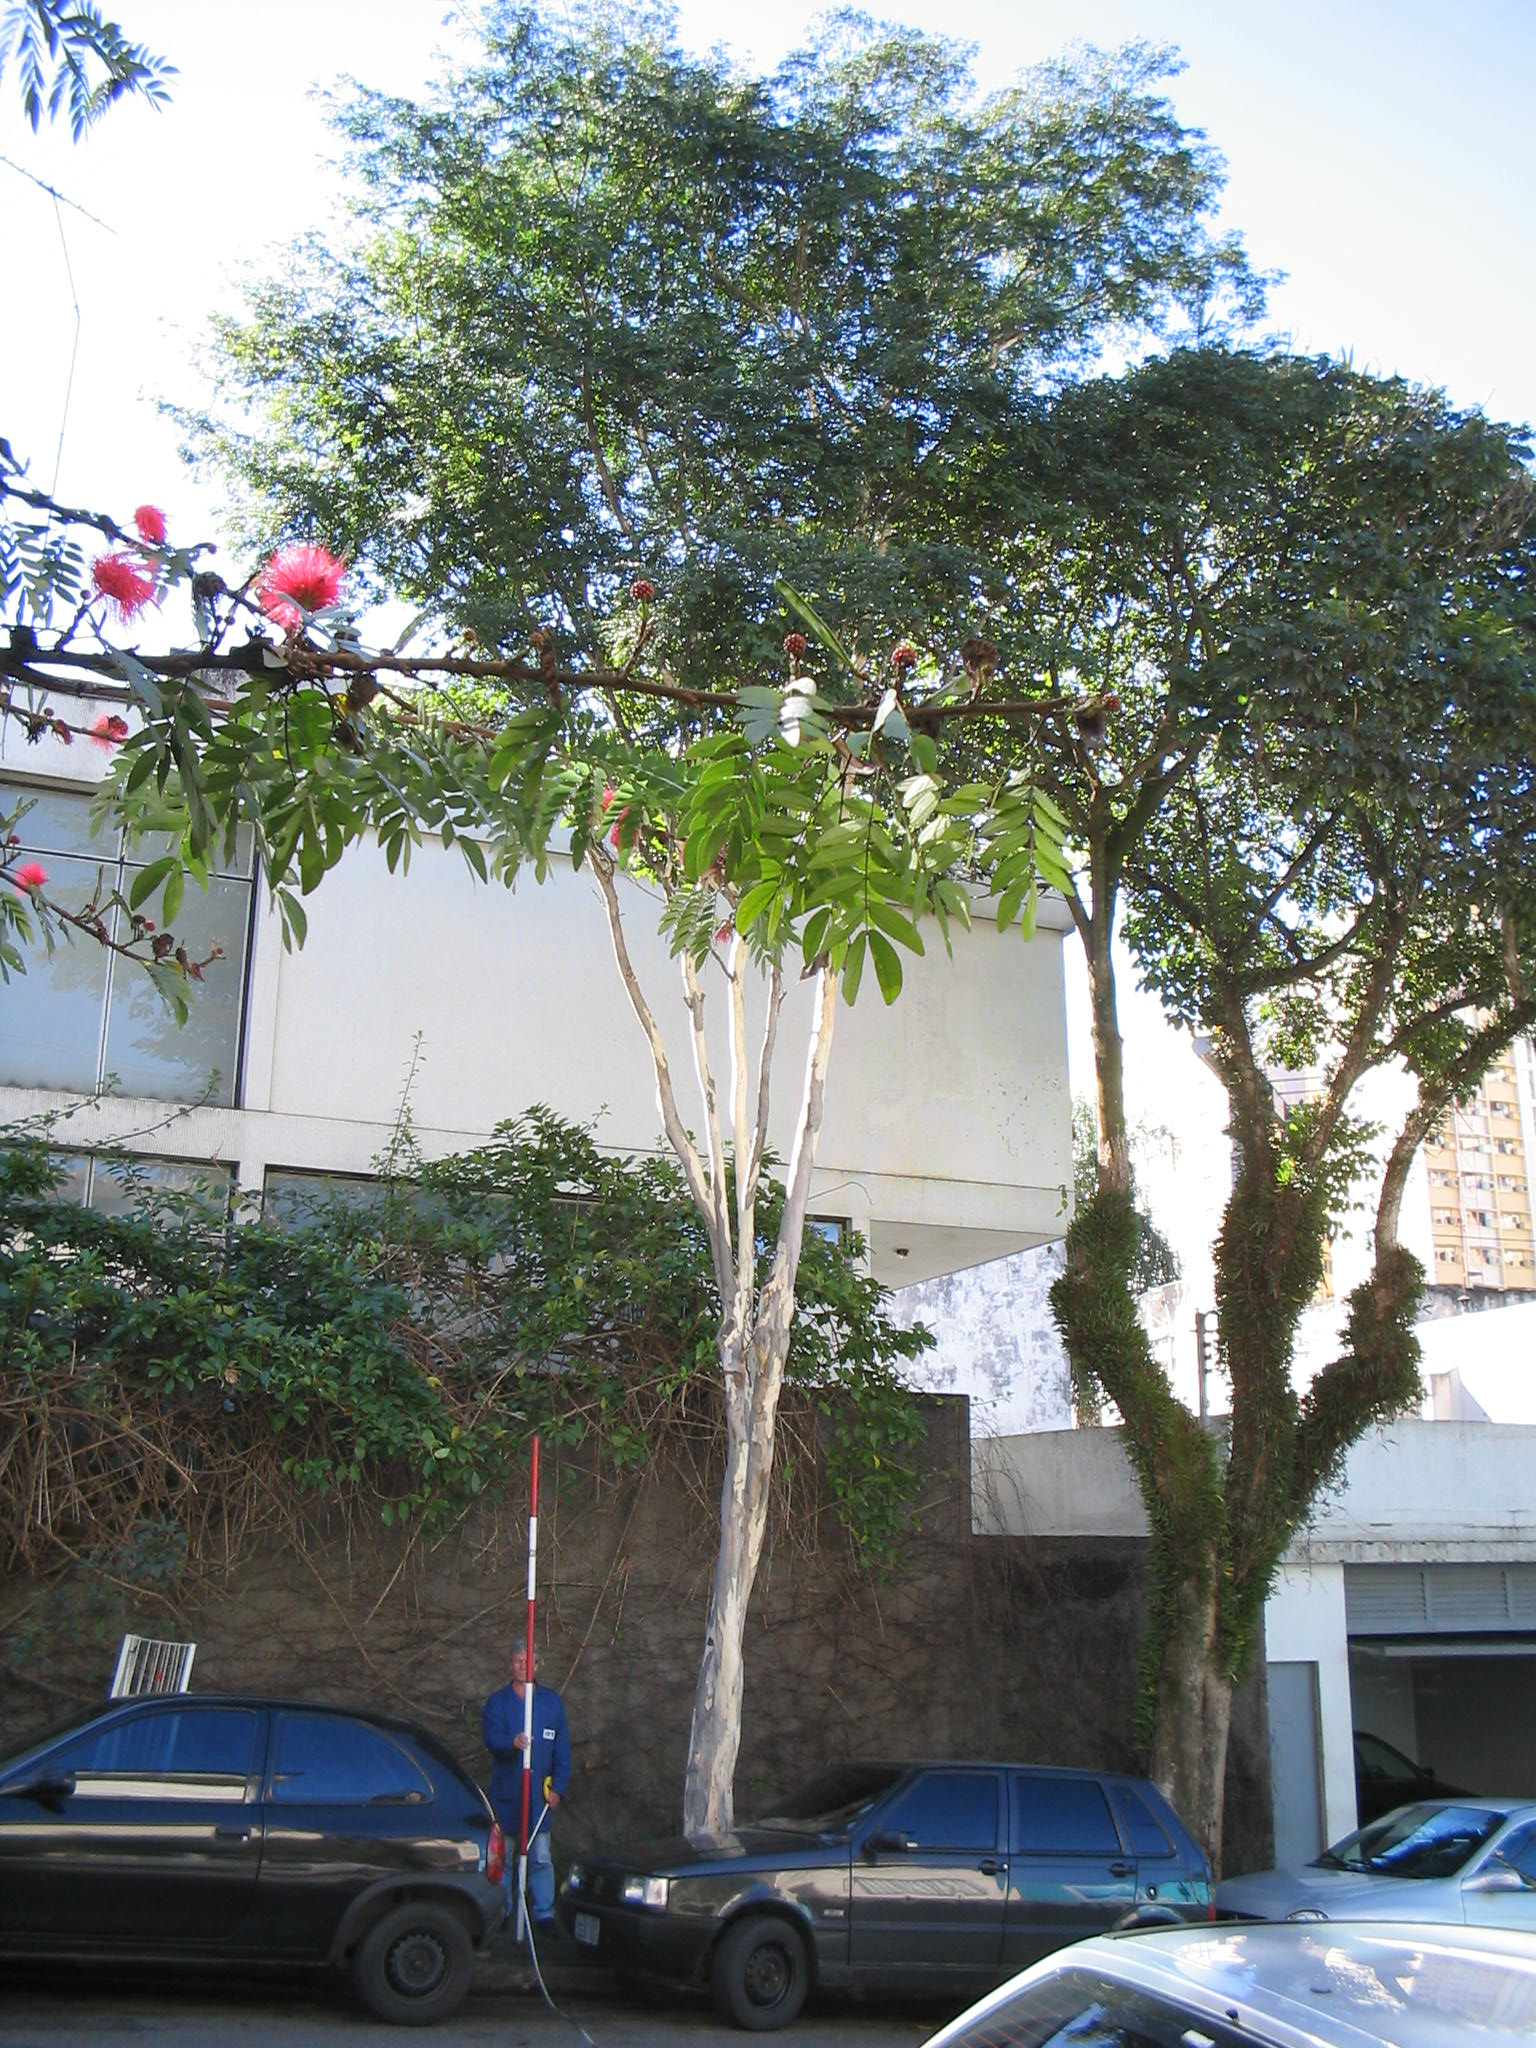crown: (179, 15, 1208, 855), (912, 369, 1530, 1093)
stem: (636, 1351, 824, 1943), (1117, 1555, 1304, 1951)
stick: (489, 1435, 561, 1945)
tree: (166, 2, 1212, 1951), (907, 360, 1536, 1946)
